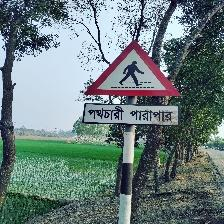Pedestrian-crossing: (81, 39, 182, 128)
